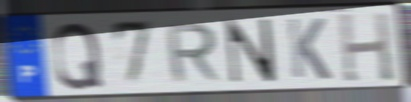7: (110, 19, 155, 90)
H: (336, 10, 397, 84)
K: (284, 16, 334, 82)
N: (223, 16, 278, 86)
Q: (50, 20, 105, 92)
R: (163, 21, 222, 84)
